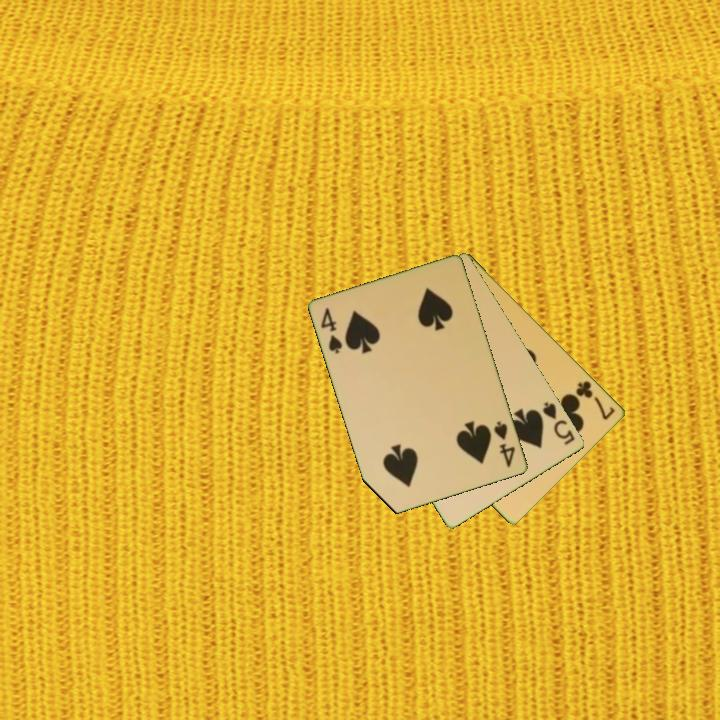4s: (317, 304, 346, 357), (491, 418, 519, 471)
5s: (539, 398, 578, 448)
7c: (572, 377, 618, 423)
